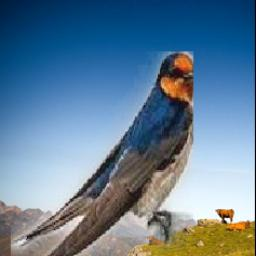Swallow: (12, 51, 194, 256)
